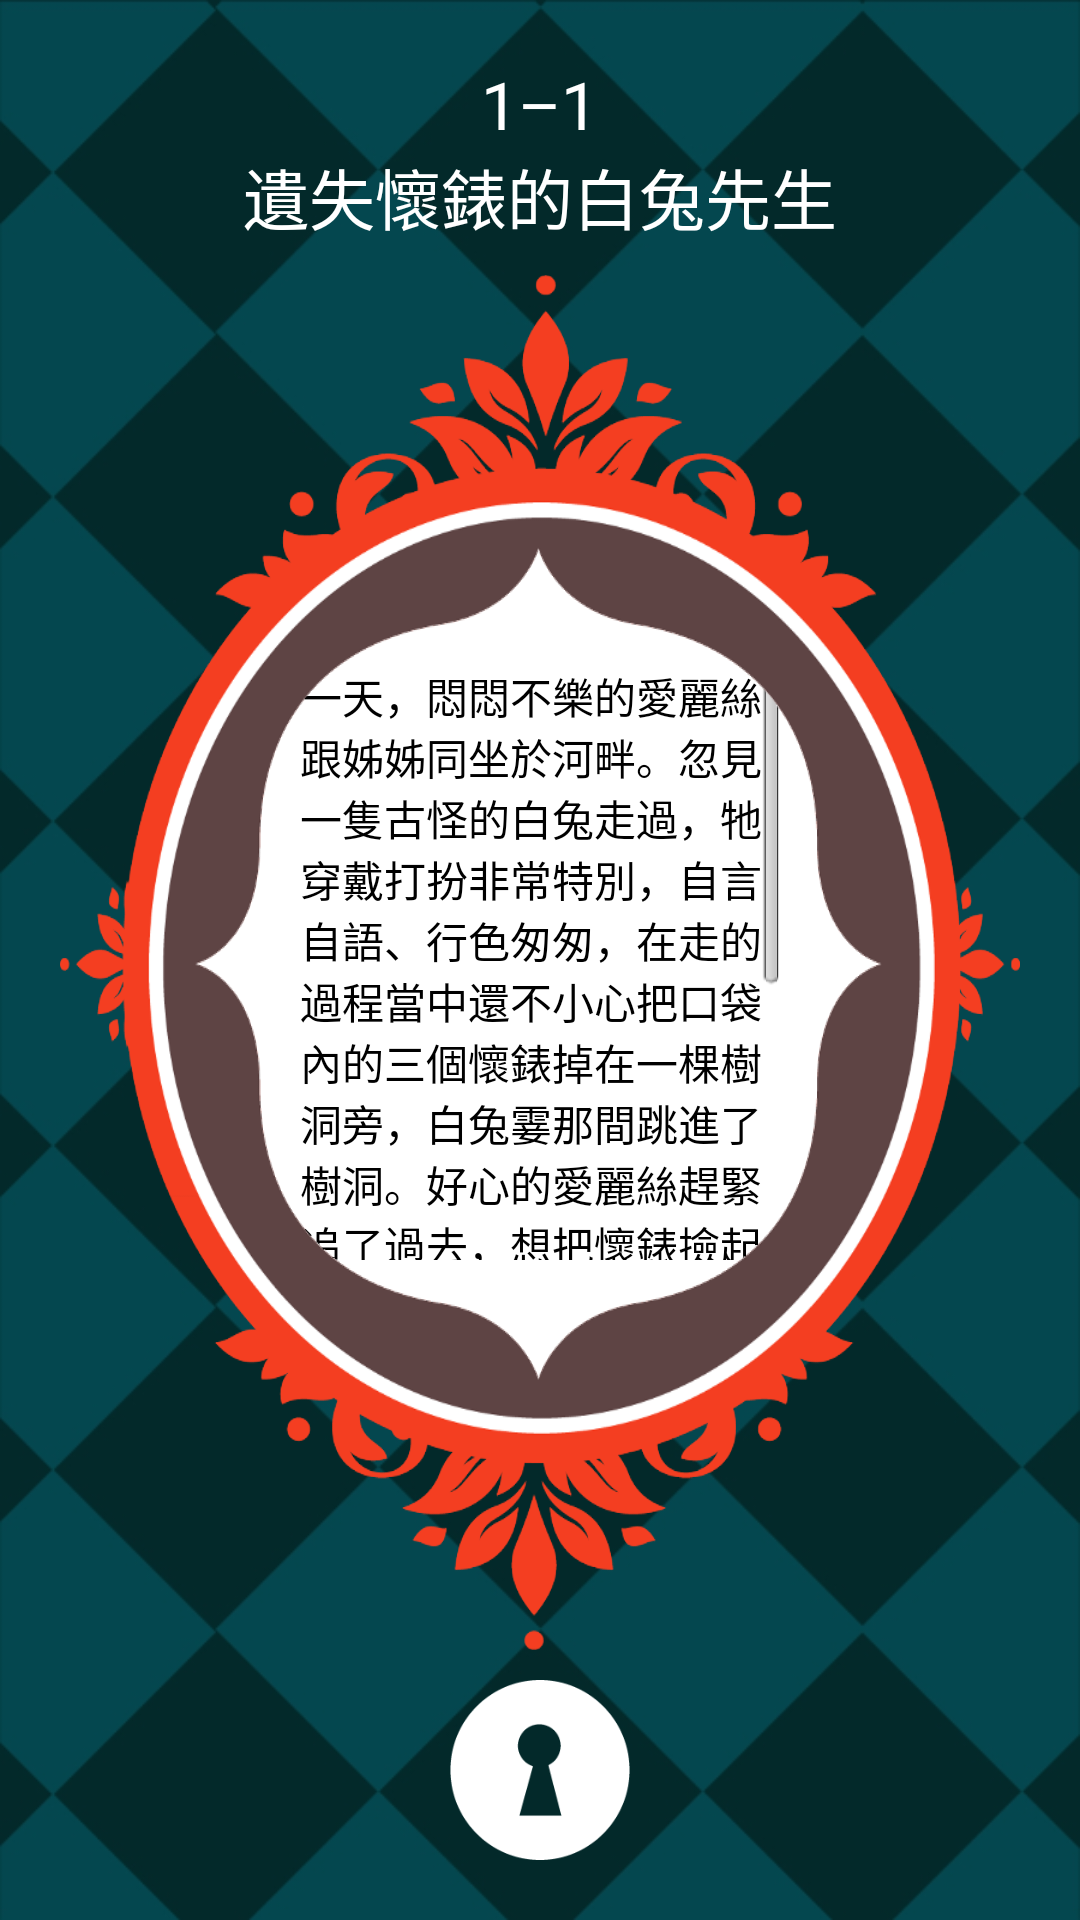

Icon bounding boxes for this 1080 × 1920 phone screenshot, format (x1, y1, x2, y2):
lock: (450, 1680, 630, 1860)
